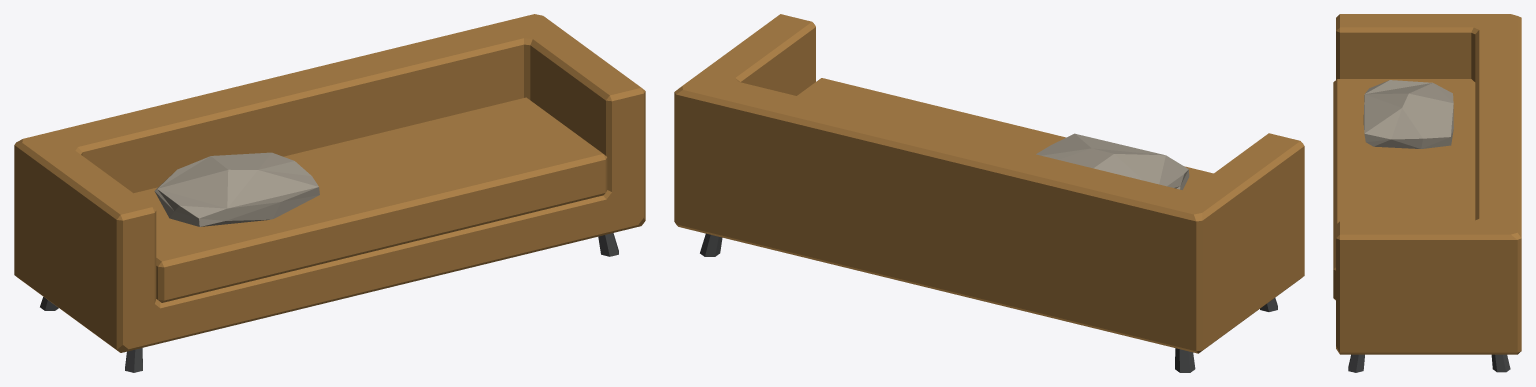
The model's file is SM_Props_Interior_House_Room_Sofa_02.fbx.
3 views of the same model, side by side, from view 1: azimuth 30°, elevation 25°; view 2: azimuth 150°, elevation 25°; view 3: azimuth 270°, elevation 25° (orthographic). The views are drawn at different scales.
Visible parts, largest first — view 1: SM_Props_Interior_House_Room_Sofa_02; view 2: SM_Props_Interior_House_Room_Sofa_02; view 3: SM_Props_Interior_House_Room_Sofa_02.
Boxes of the visible parts, x1,y1,x2,y2 form: SM_Props_Interior_House_Room_Sofa_02: (14, 14, 645, 372); SM_Props_Interior_House_Room_Sofa_02: (674, 14, 1304, 372); SM_Props_Interior_House_Room_Sofa_02: (1333, 14, 1521, 372).
Bounding box in the file's own units: 200 × 60 × 71.
